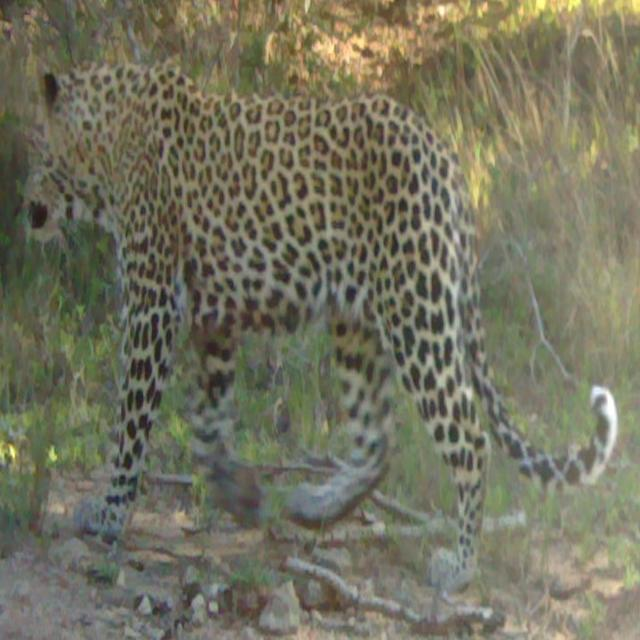Leopard: (17, 38, 606, 600)
